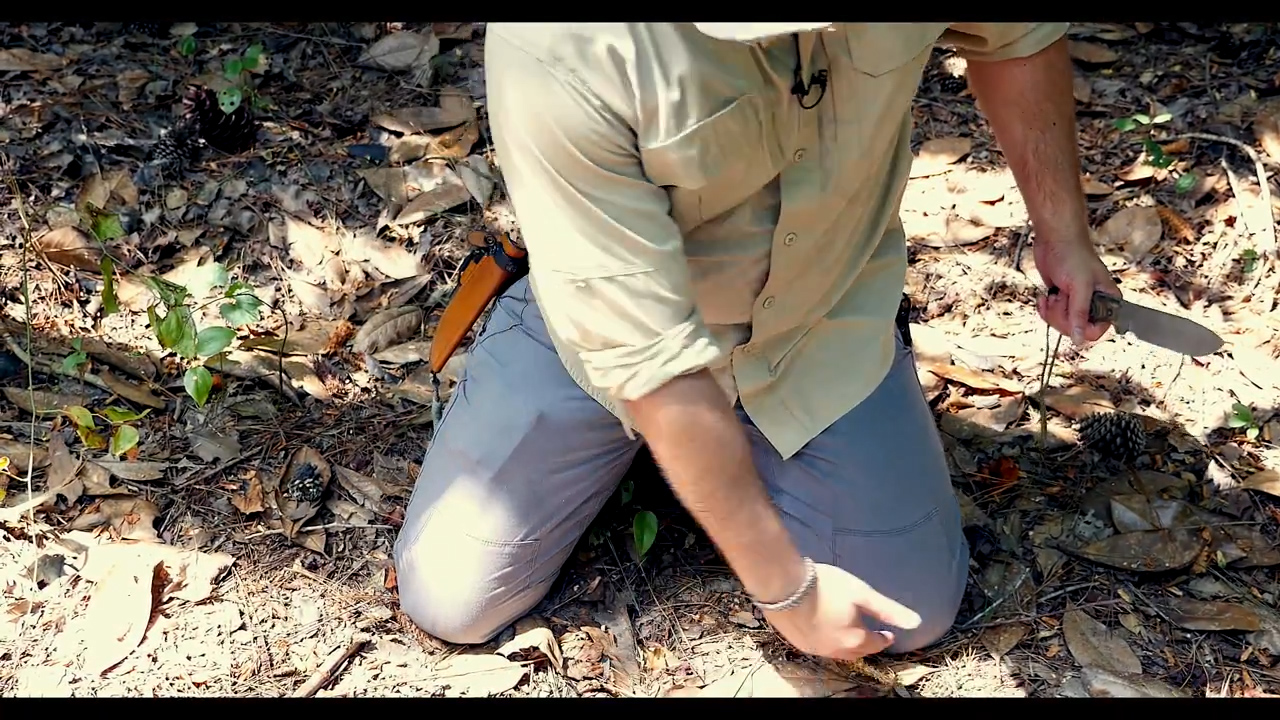knife: (1033, 263, 1231, 371)
